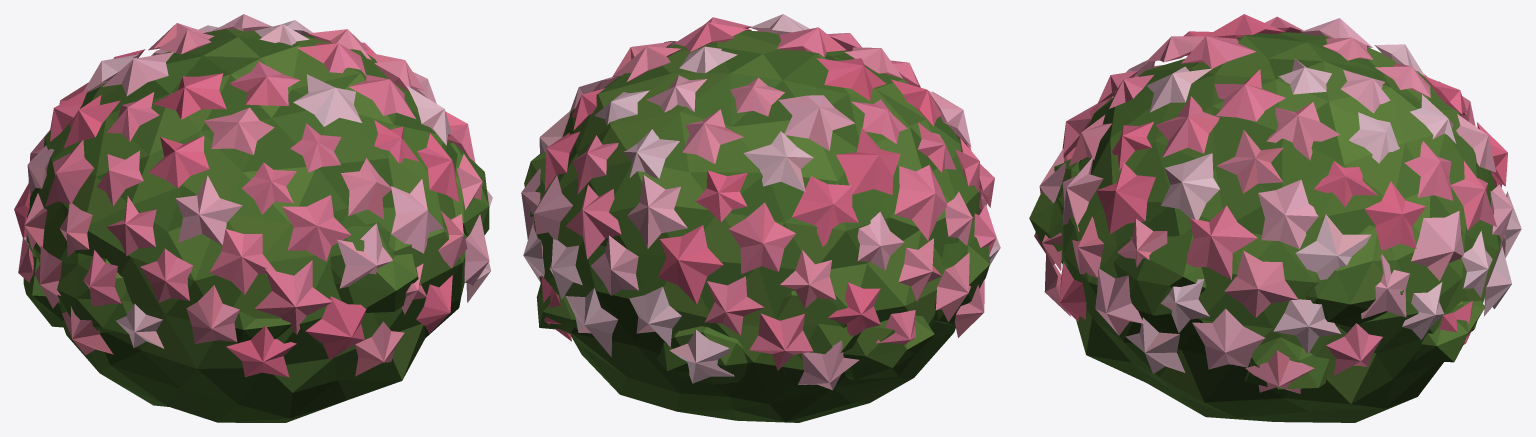
File: zen_azalea.glb
3 renders of one model, left to right at view 1: azimuth 30°, elevation 25°; view 2: azimuth 150°, elevation 25°; view 3: azimuth 270°, elevation 25°, orthographic.
Parts seen in each view (by area): view 1: zen_azalea; view 2: zen_azalea; view 3: zen_azalea.
Boxes of the visible parts, bbox=[...] form: zen_azalea: bbox=[14, 14, 492, 422]; zen_azalea: bbox=[521, 14, 1000, 422]; zen_azalea: bbox=[1029, 14, 1521, 422].
Bounding box in the file's own units: 1.73 × 1.32 × 1.75.
